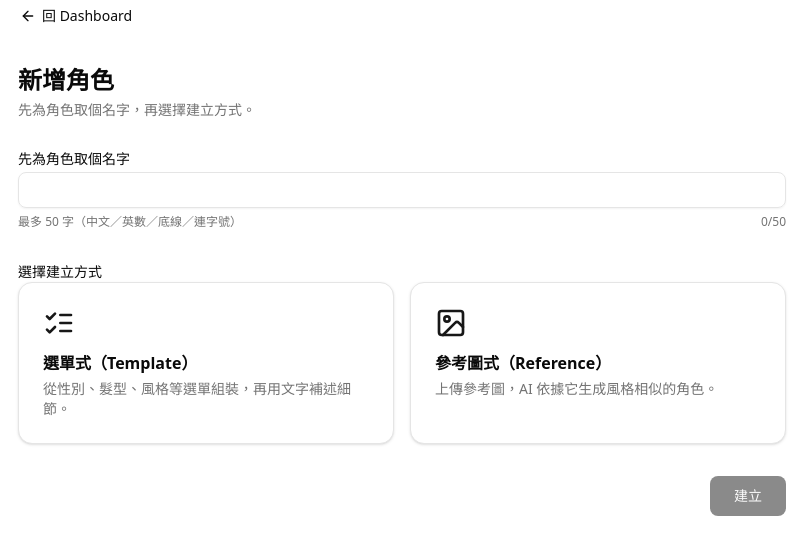
Scenario: NewCharacterPage › disables the submit button until both name and mode are filled
Expected: the button "建立" is disabled, [710,476,786,516]
Note: Name only — still disabled until a mode is chosen.
Type "小雅" into the field labelled "先為角色取個名字" at (402, 190), box [18,172,786,208]
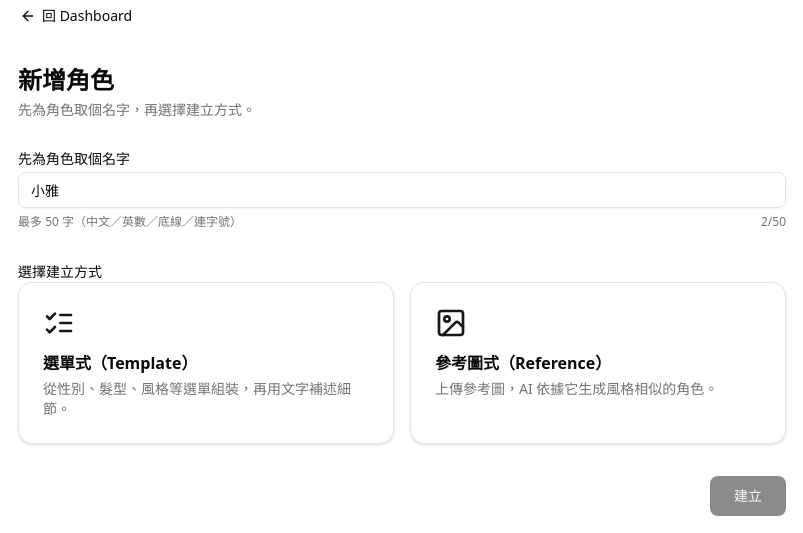
Expected: the button "建立" is disabled, [710,476,786,516]
Click the radio button with test id "input-mode-card-template" at (59, 323), box [18,282,394,444]
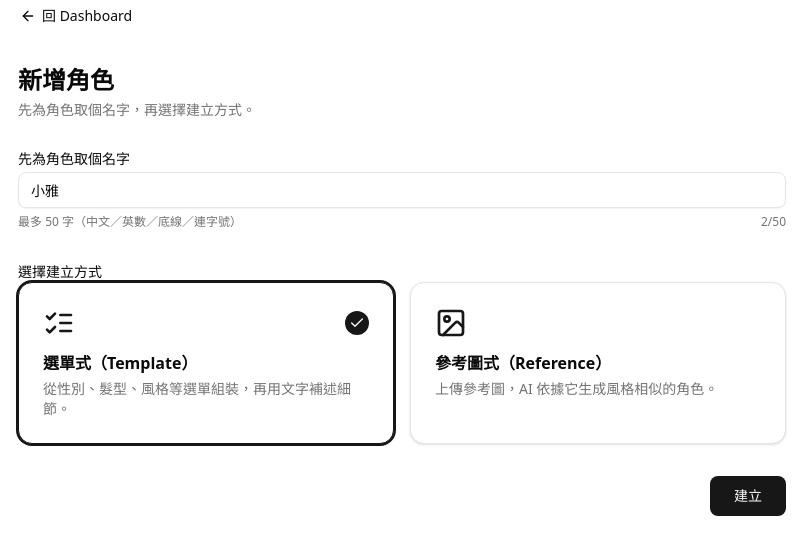
Expected: the button "建立" is enabled, [710,476,786,516]
